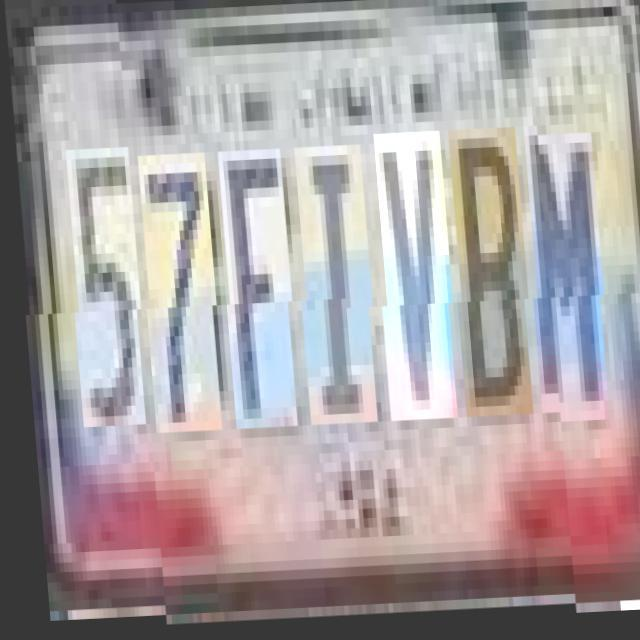5: (64, 158, 144, 438)
7: (136, 154, 220, 434)
B: (446, 132, 530, 422)
F: (215, 152, 295, 432)
I: (291, 148, 375, 428)
M: (521, 130, 606, 418)
V: (370, 136, 455, 424)
